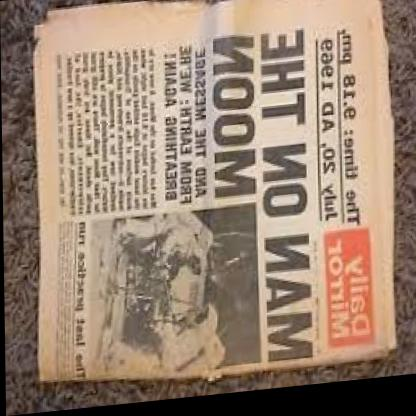Paper: (16, 0, 402, 398)
